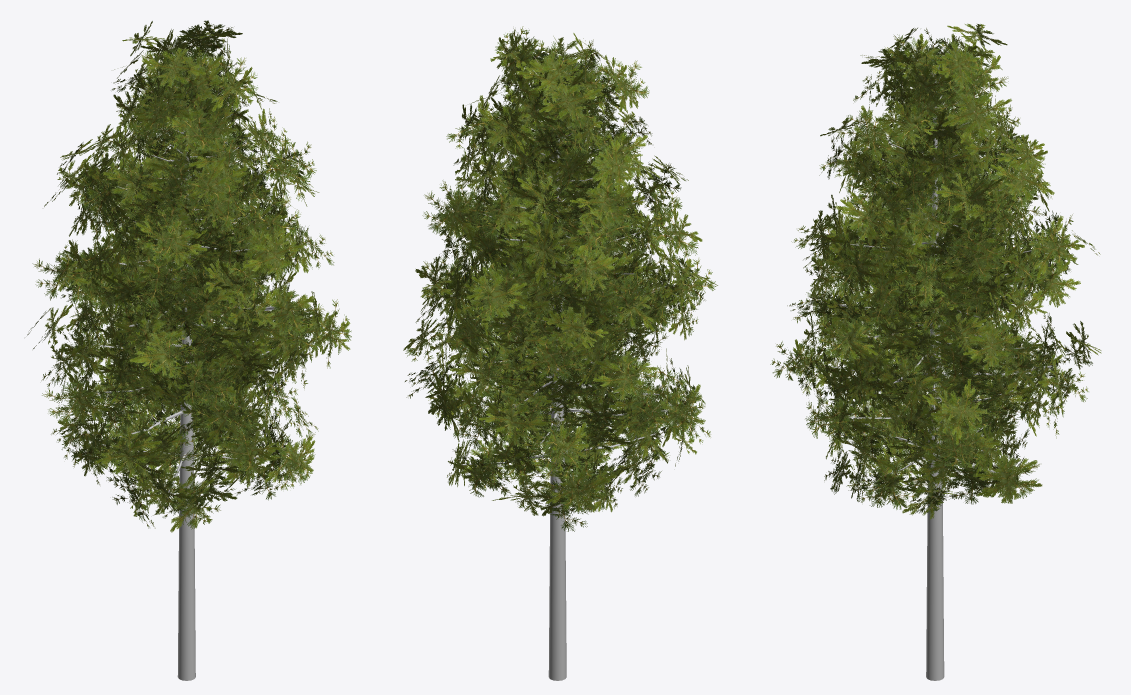
The model's file is California_Incense_Cedar_Model_0.obj.
3 renders of one model, left to right at view 1: azimuth 30°, elevation 25°; view 2: azimuth 150°, elevation 25°; view 3: azimuth 270°, elevation 25°, orthographic.
Visible parts, largest first — view 1: Foliage__leafcard, Bark; view 2: Foliage__leafcard, Bark; view 3: Foliage__leafcard, Bark.
Boxes of the visible parts, <box> form: Foliage__leafcard: <box>27,20,351,532</box>; Bark: <box>74,48,290,680</box>; Foliage__leafcard: <box>403,26,717,531</box>; Bark: <box>455,52,672,680</box>; Foliage__leafcard: <box>770,23,1101,519</box>; Bark: <box>831,46,1056,680</box>.
Size of the model in its own units: 12.07 by 25 by 12.27.
